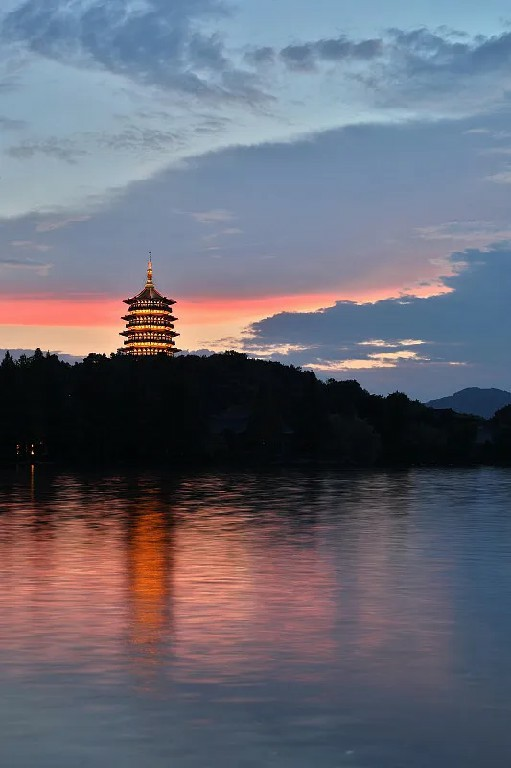Leifeng: (117, 250, 181, 358)
